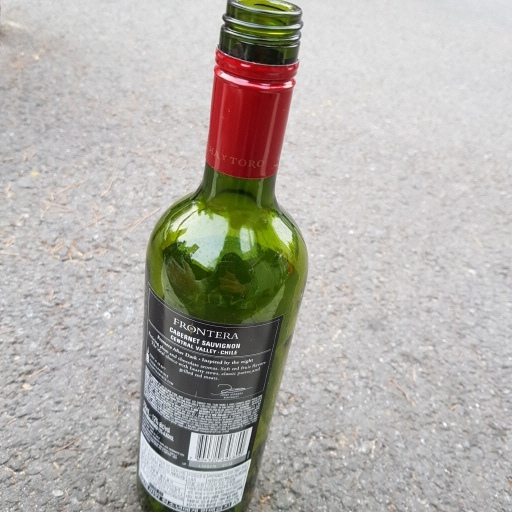Glass_2: (140, 1, 319, 512)
